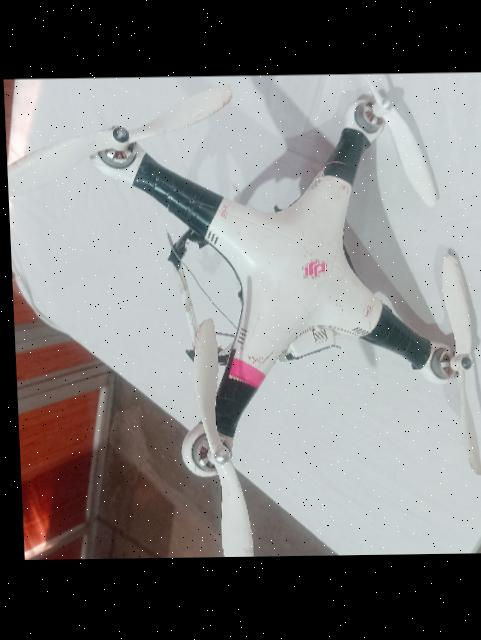drone: (3, 74, 481, 560)
